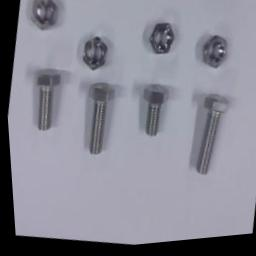Non-corroded Nut: (80, 37, 108, 71), (30, 0, 59, 30), (149, 25, 175, 57), (203, 39, 226, 73)
Non-corroded-Bolts: (193, 97, 229, 179), (87, 84, 114, 156), (35, 70, 60, 132), (142, 87, 167, 139)
